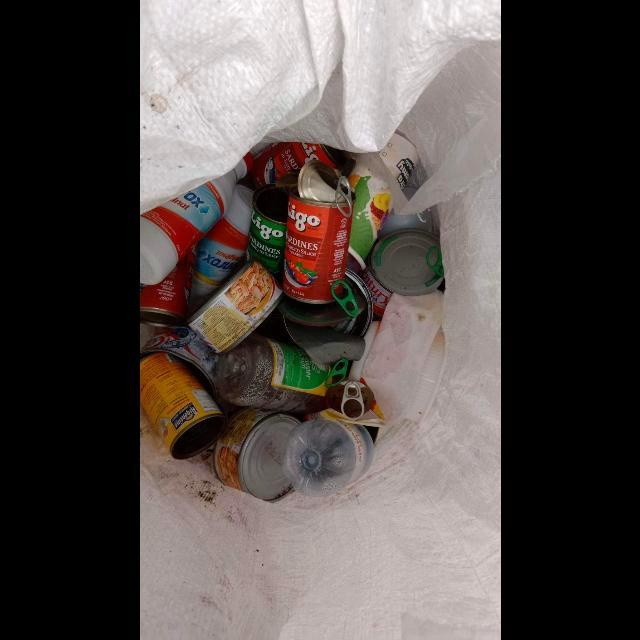aluminum: (139, 152, 252, 286), (283, 159, 352, 301), (139, 353, 225, 460), (187, 259, 282, 353), (281, 301, 372, 388), (213, 409, 299, 500), (250, 142, 352, 218), (362, 228, 444, 316), (139, 326, 220, 403), (281, 268, 371, 325), (245, 185, 287, 284), (139, 249, 194, 324), (306, 381, 387, 423)
cardboard: (347, 131, 419, 269)
plastic_bottle: (215, 337, 340, 413), (188, 182, 254, 304), (283, 419, 373, 498)
plastic_container: (360, 290, 444, 423), (403, 323, 445, 427)
